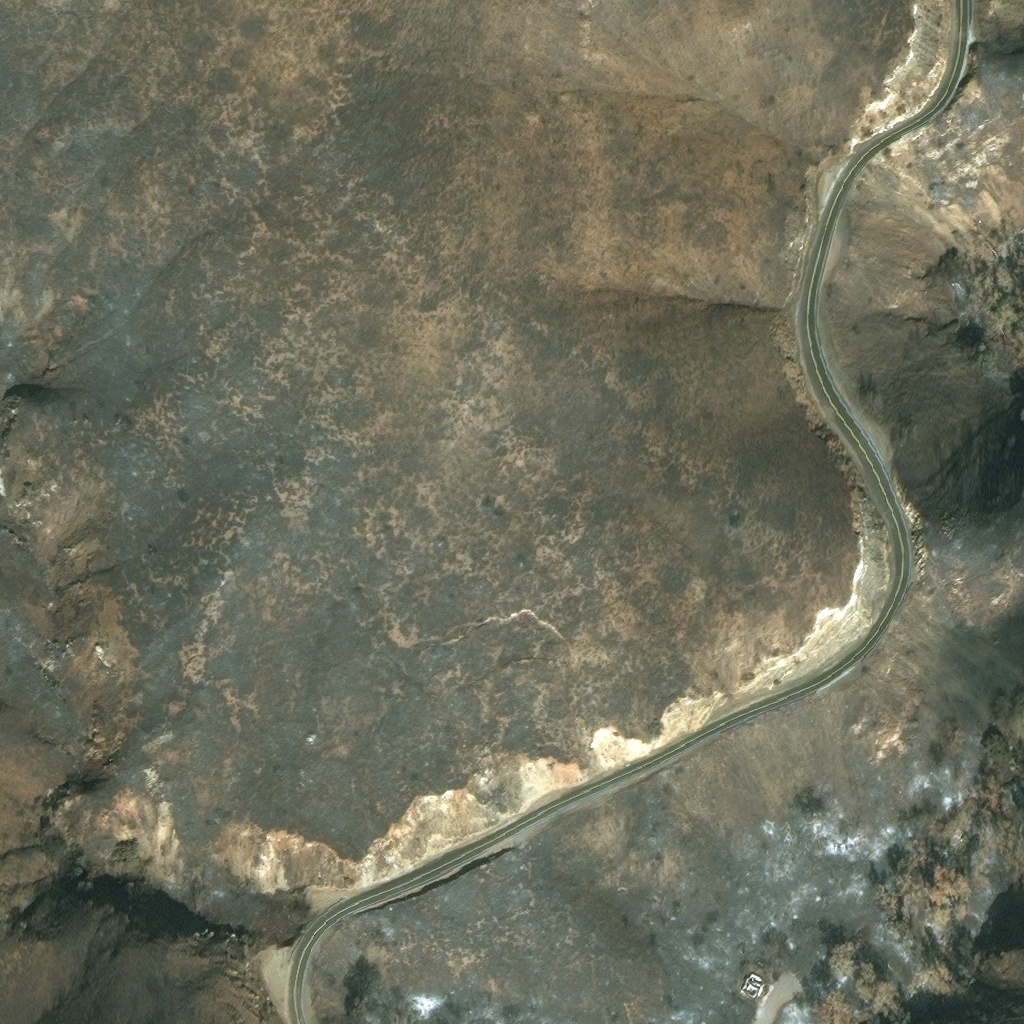3 destroyed: (737, 970, 775, 1006)
